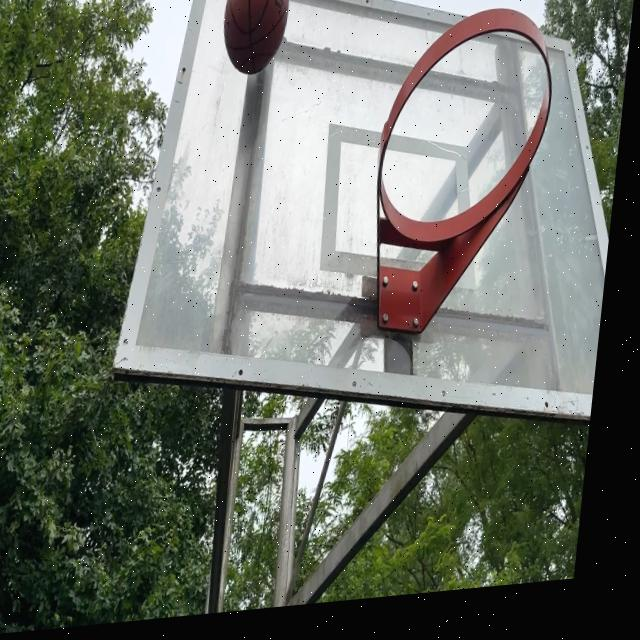rebound_hit: (218, 0, 294, 80)
